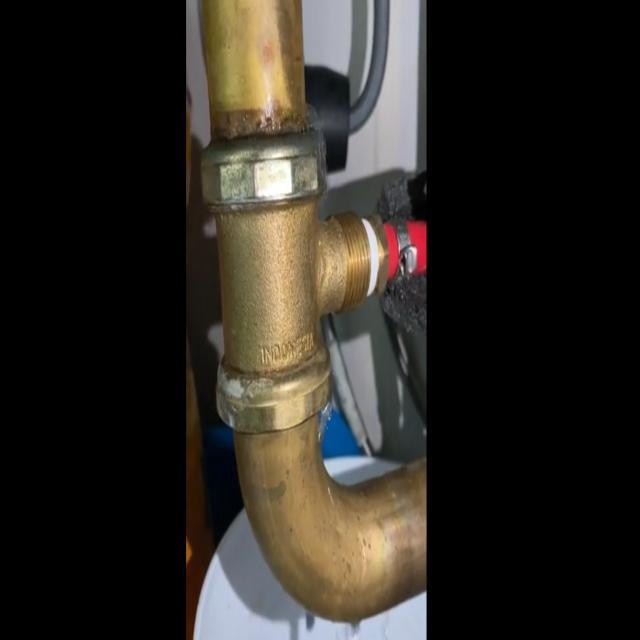leak: (319, 400, 331, 441)
